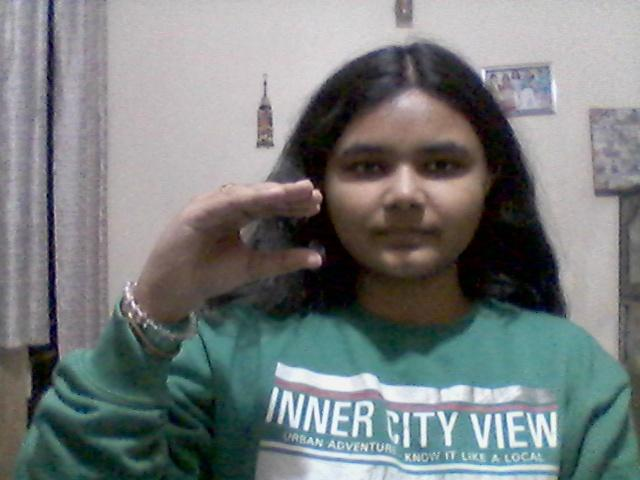no: (108, 171, 332, 330)
